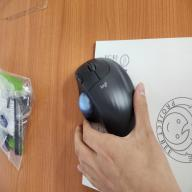mouse: (65, 38, 145, 144)
